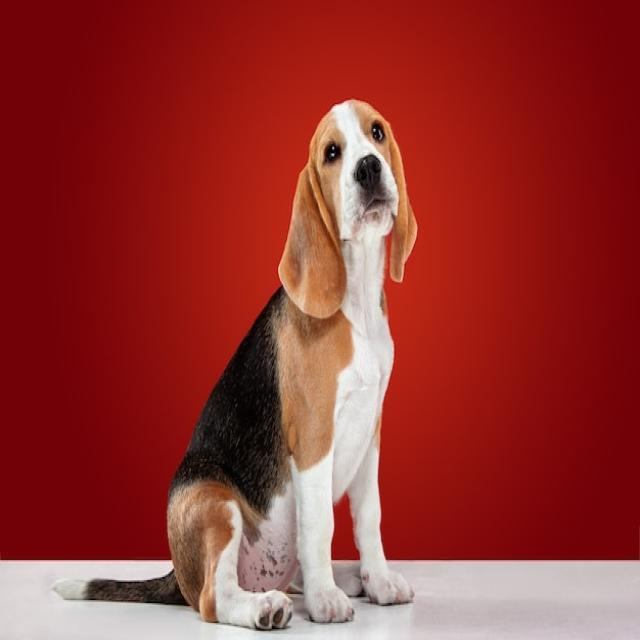Dog: (56, 98, 418, 629)
